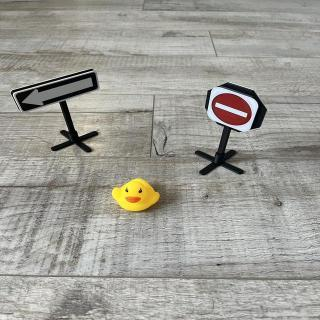duck_regular: (113, 180, 161, 214)
sign_noentry: (206, 87, 261, 134)
sign_oneway_left: (11, 70, 101, 116)
